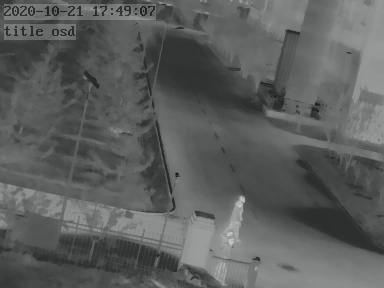person: (222, 194, 245, 247)
